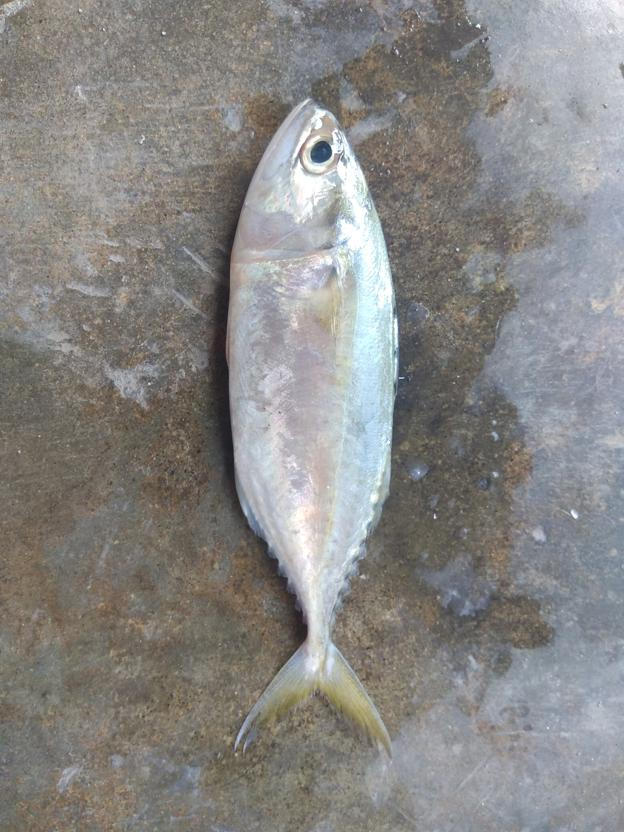Fish head: (231, 94, 391, 260)
Fish tail: (230, 632, 399, 760)
